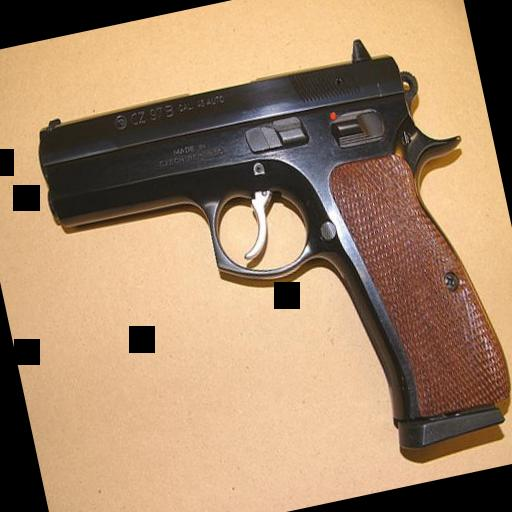Handgun: (25, 21, 512, 510)
